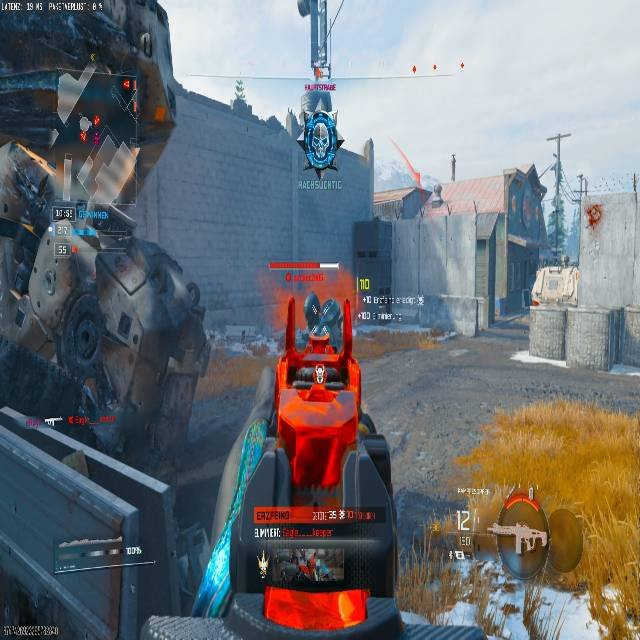head: (303, 293, 320, 319)
player: (301, 292, 340, 346)
